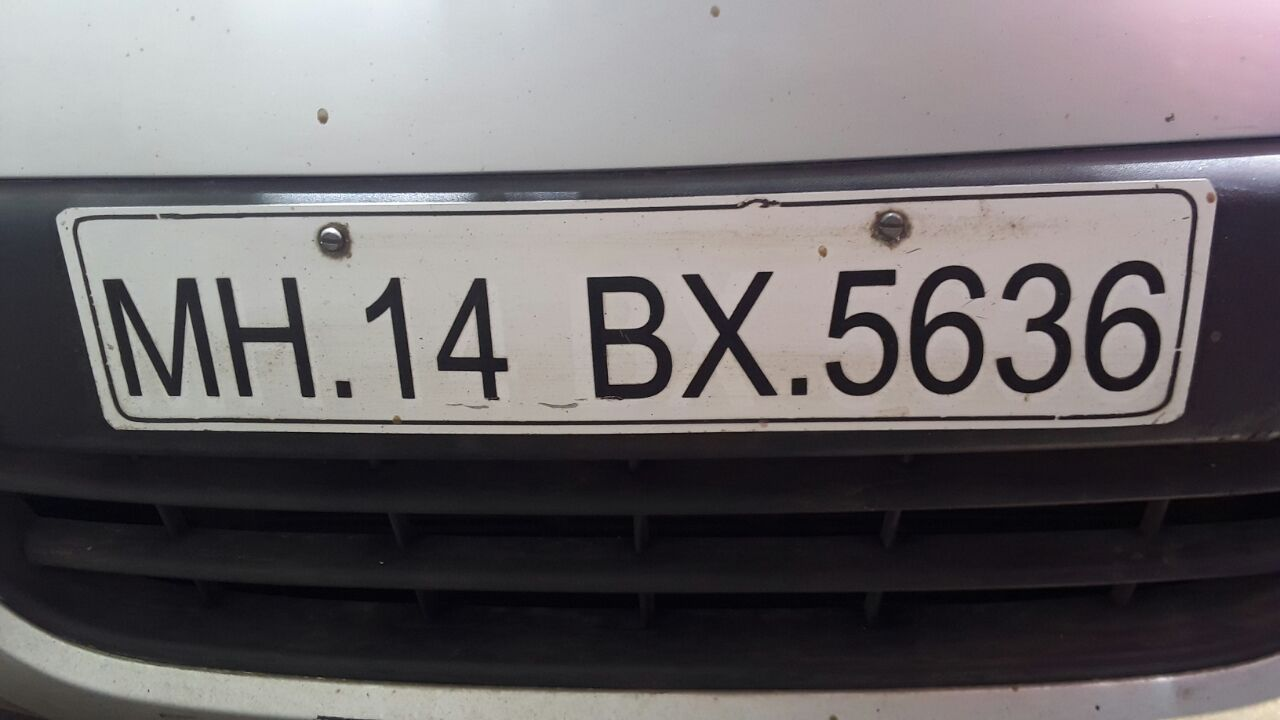licenseplate: (51, 168, 1235, 455)
